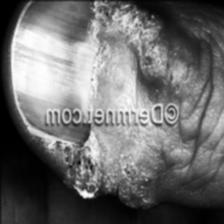Toxin: (68, 124, 106, 194), (88, 0, 118, 30)
